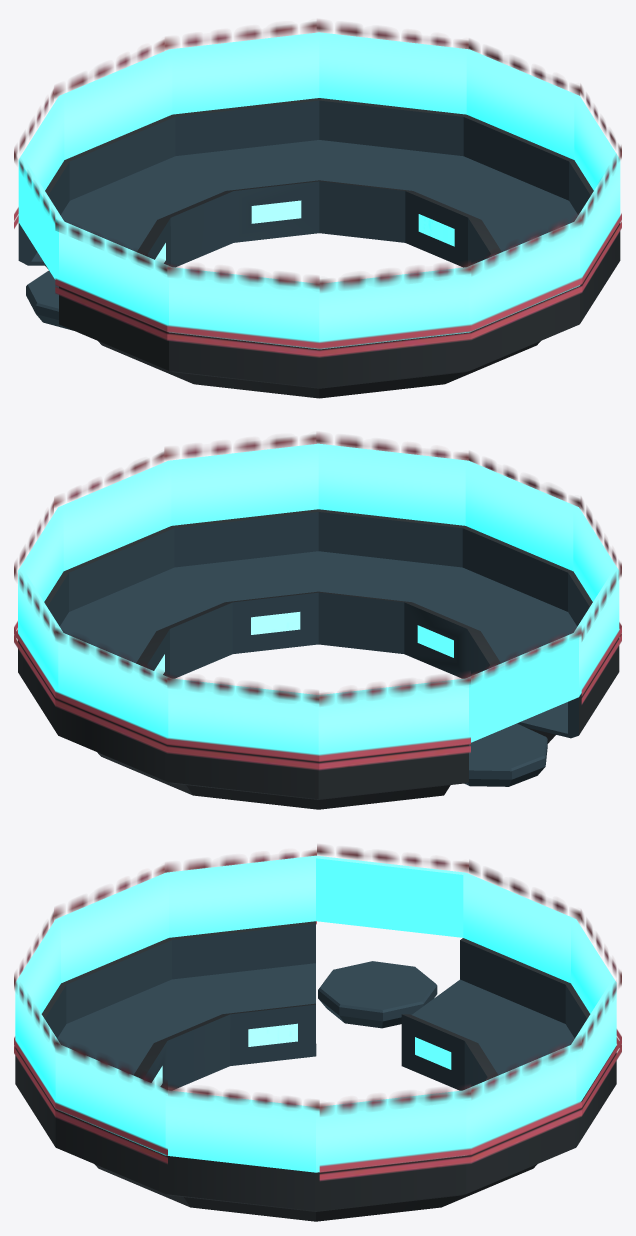
Rendered from Aero_Station_Ring_Art.glb.
The picture shows the model from 3 angles, top to bottom: view 1: azimuth 30°, elevation 25°; view 2: azimuth 150°, elevation 25°; view 3: azimuth 270°, elevation 25°; orthographic projection.
Parts seen in each view (by area): view 1: Aero_Station_Ring_Art; view 2: Aero_Station_Ring_Art; view 3: Aero_Station_Ring_Art.
Boxes of the visible parts, x1,y1,x2,y2 form: Aero_Station_Ring_Art: (14,19,621,398); Aero_Station_Ring_Art: (14,432,621,809); Aero_Station_Ring_Art: (14,844,621,1221).
Bounding box in the file's own units: 10.23 × 3.06 × 10.23.
6 materials, 3 textured.
